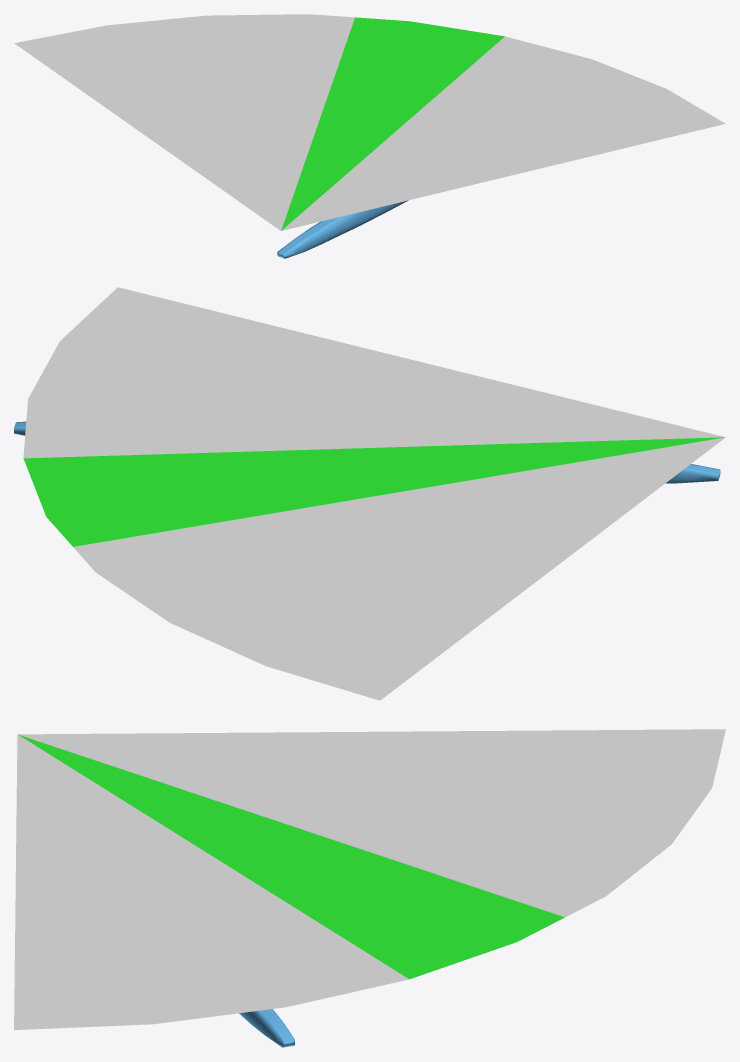
The model's file is MinigamePuncture.fbx.
3 renders of one model, top to bottom at view 1: azimuth 30°, elevation 25°; view 2: azimuth 150°, elevation 25°; view 3: azimuth 270°, elevation 25°, orthographic. The views are drawn at different scales.
Parts seen in each view (by area): view 1: Cylinder, Mball; view 2: Cylinder, Mball; view 3: Cylinder, Mball.
Part boxes in pixels (left/top/right/bottom): Cylinder: left=14, top=14, right=725, bottom=230; Mball: left=277, top=200, right=408, bottom=258; Cylinder: left=23, top=287, right=725, bottom=700; Mball: left=14, top=421, right=720, bottom=483; Cylinder: left=14, top=729, right=725, bottom=1029; Mball: left=239, top=1009, right=294, bottom=1047.
Size of the model in its own units: 100 by 7.81 by 100.
